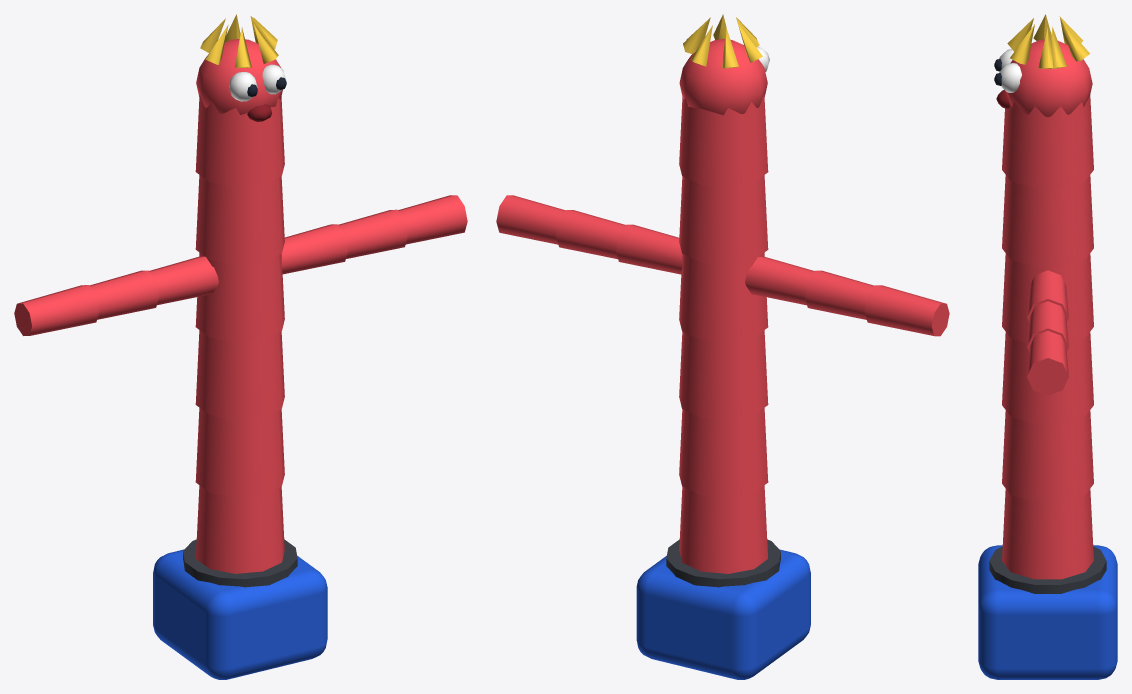
Rendered from tube_man.glb.
3 views of the same model, side by side, from view 1: azimuth 30°, elevation 25°; view 2: azimuth 150°, elevation 25°; view 3: azimuth 270°, elevation 25° (orthographic).
Visible parts, largest first — view 1: TubeMan, Seg5, Seg4, Seg1, Seg2, Seg0, Seg3, ArmL2, ArmR0, ArmR2, ArmL1, ArmR1 (+1 smaller); view 2: TubeMan, Seg5, Seg4, Seg1, Seg2, Seg0, Seg3, ArmL2, ArmR0, ArmL1, ArmR2, ArmR1 (+1 smaller); view 3: TubeMan, Seg5, Seg4, Seg1, Seg0, Seg2, Seg3, ArmR2, ArmR0, ArmR1.
Part boxes in pixels (bbox=[...]): TubeMan: bbox=[153, 539, 327, 679]; Seg5: bbox=[195, 14, 286, 187]; Seg4: bbox=[195, 175, 284, 264]; Seg1: bbox=[195, 408, 284, 497]; Seg2: bbox=[195, 330, 284, 419]; Seg0: bbox=[195, 485, 284, 573]; Seg3: bbox=[195, 252, 284, 342]; ArmL2: bbox=[14, 285, 99, 335]; ArmR0: bbox=[281, 224, 347, 274]; ArmR2: bbox=[398, 195, 467, 244]; ArmL1: bbox=[89, 270, 158, 319]; ArmR1: bbox=[338, 209, 407, 258]; TubeMan: bbox=[636, 539, 810, 679]; Seg5: bbox=[679, 14, 769, 187]; Seg4: bbox=[679, 175, 768, 264]; Seg1: bbox=[679, 408, 768, 497]; Seg2: bbox=[679, 330, 768, 419]; Seg0: bbox=[679, 485, 768, 573]; Seg3: bbox=[679, 252, 768, 342]; ArmL2: bbox=[864, 285, 949, 336]; ArmR0: bbox=[616, 224, 682, 274]; ArmL1: bbox=[805, 270, 874, 319]; ArmR2: bbox=[496, 195, 565, 244]; ArmR1: bbox=[556, 210, 625, 259]; TubeMan: bbox=[978, 545, 1117, 679]; Seg5: bbox=[994, 14, 1093, 188]; Seg4: bbox=[1002, 175, 1093, 266]; Seg1: bbox=[1002, 410, 1093, 501]; Seg0: bbox=[1002, 489, 1093, 579]; Seg2: bbox=[1002, 332, 1093, 423]; Seg3: bbox=[1002, 253, 1093, 342]; ArmR2: bbox=[1027, 331, 1068, 395]; ArmR0: bbox=[1027, 270, 1068, 321]; ArmR1: bbox=[1027, 301, 1068, 351].
Size of the model in its own units: 3.63 by 5.03 by 1.
